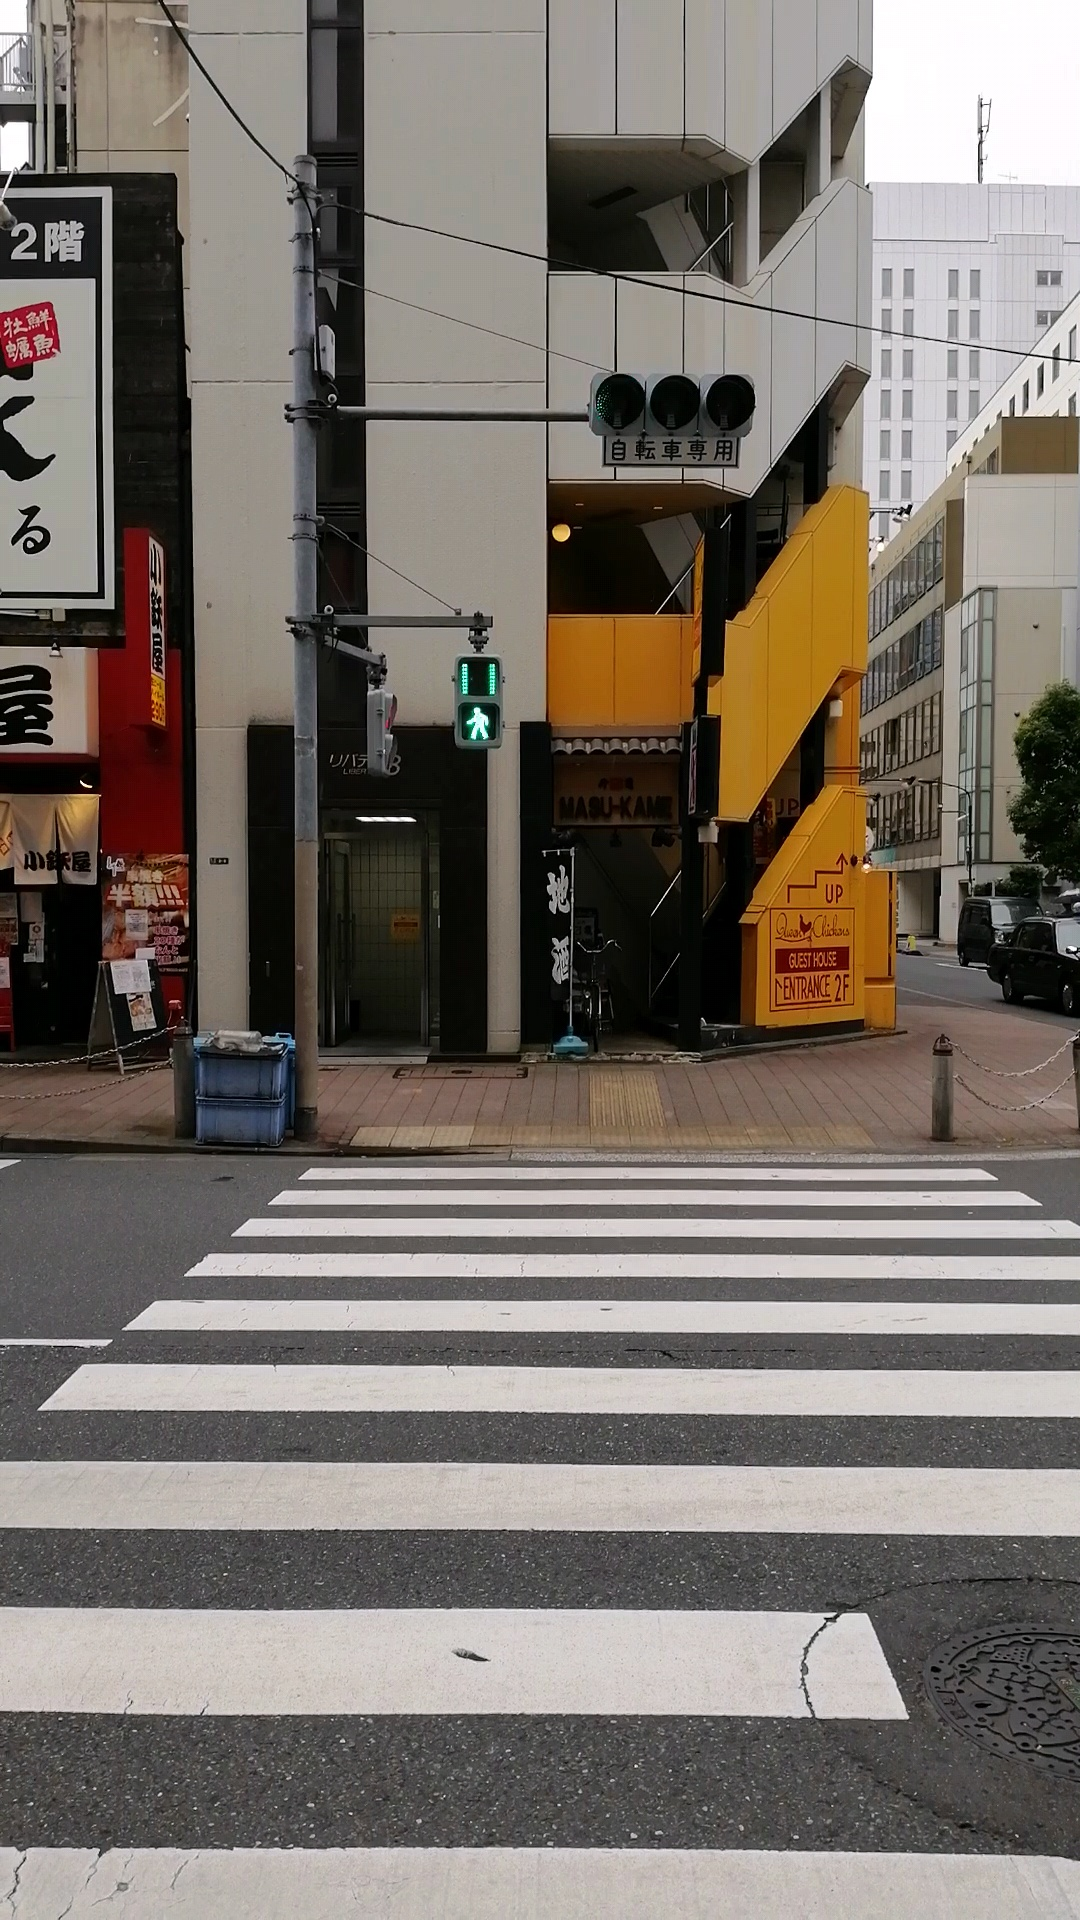green: (456, 654, 502, 749)
